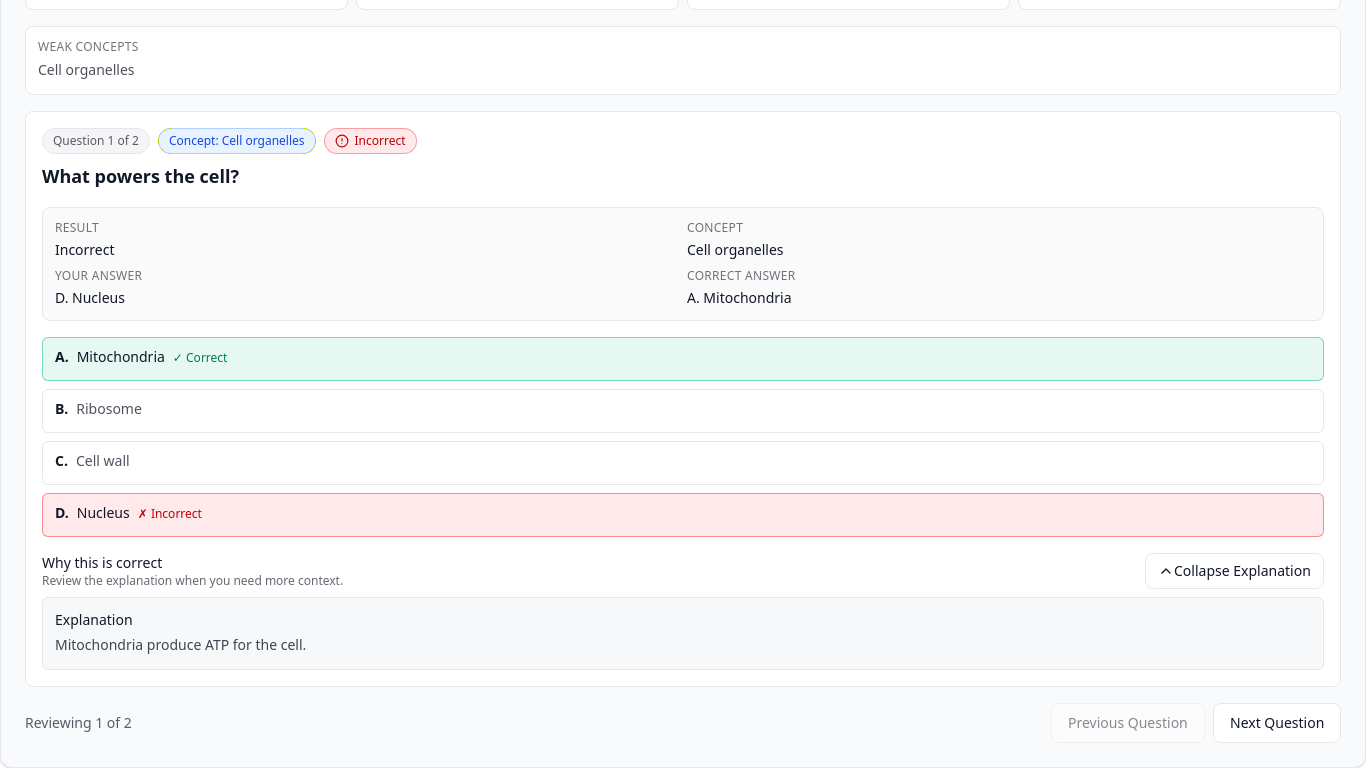
Test: QuizAnswerReview › moves through reviewed questions without losing answer state
(page scrolled)
Click the button "Next Question" at (1277, 723), box [1213, 703, 1341, 743]
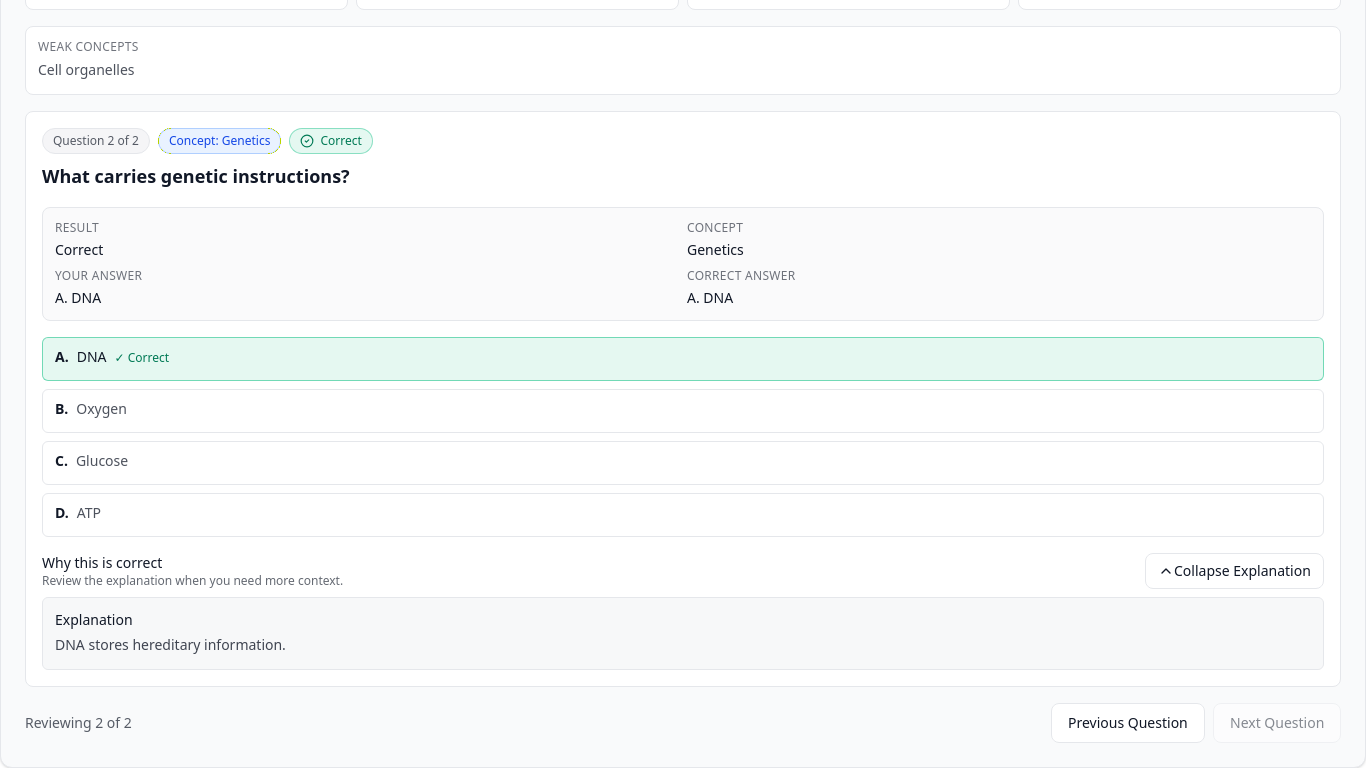
Check: the heading "What carries genetic instructions?" is shown, box [42, 162, 373, 191]
Check: the text "Concept: Genetics" is shown, box [158, 128, 281, 154]
Check: the text "DNA stores hereditary information." is shown, box [55, 635, 286, 654]
Click the button "Previous Question" at (1128, 723), box [1051, 703, 1205, 743]
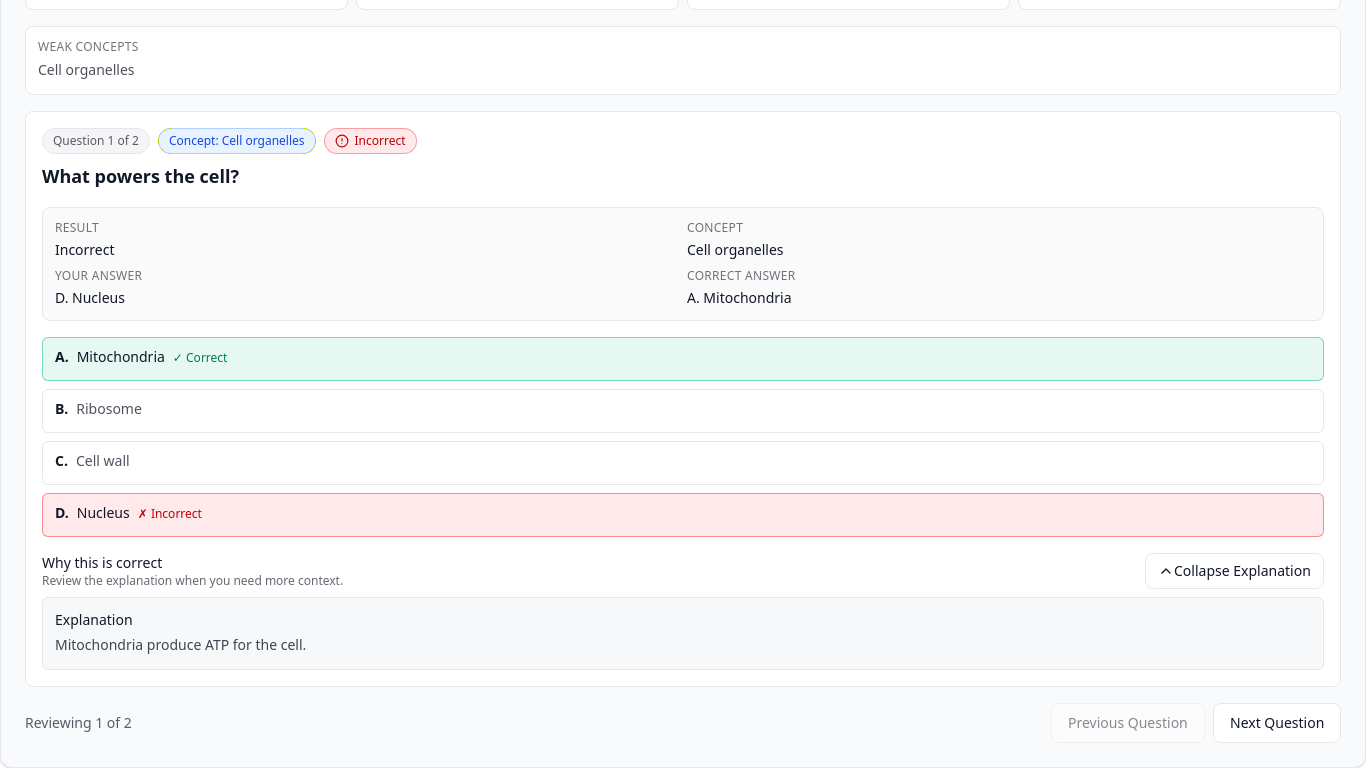
Check: the heading "What powers the cell?" is shown, box [42, 164, 239, 188]
Check: the text "Mitochondria produce ATP for the cell." is shown, box [55, 635, 306, 654]
